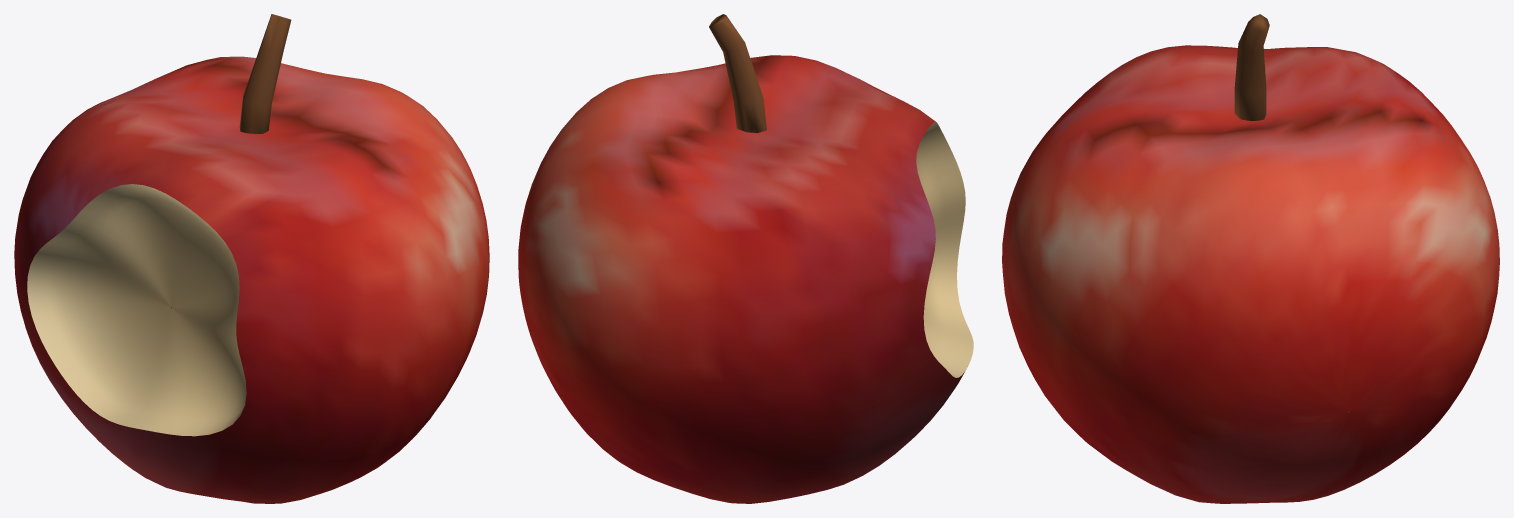
Rendered from apple_bitten.glb.
3 views of the same model, side by side, from view 1: azimuth 30°, elevation 25°; view 2: azimuth 150°, elevation 25°; view 3: azimuth 270°, elevation 25° (orthographic). The views are drawn at different scales.
Visible parts, largest first — view 1: Plant; view 2: Plant; view 3: Plant.
Part boxes in pixels (box(x1,y1,x2,y2)): Plant: box(14, 14, 489, 503); Plant: box(518, 14, 973, 503); Plant: box(1002, 14, 1499, 503).
Bounding box in the file's own units: 0.312 × 0.3313 × 0.316.
